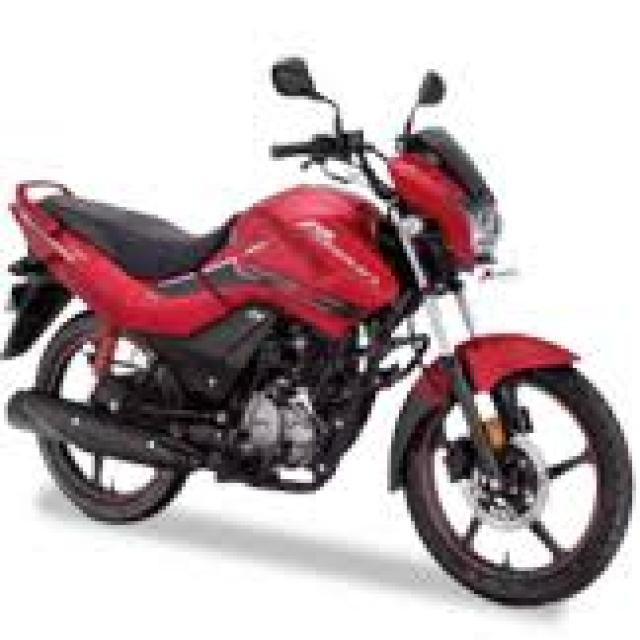Bike: (7, 53, 640, 607)
